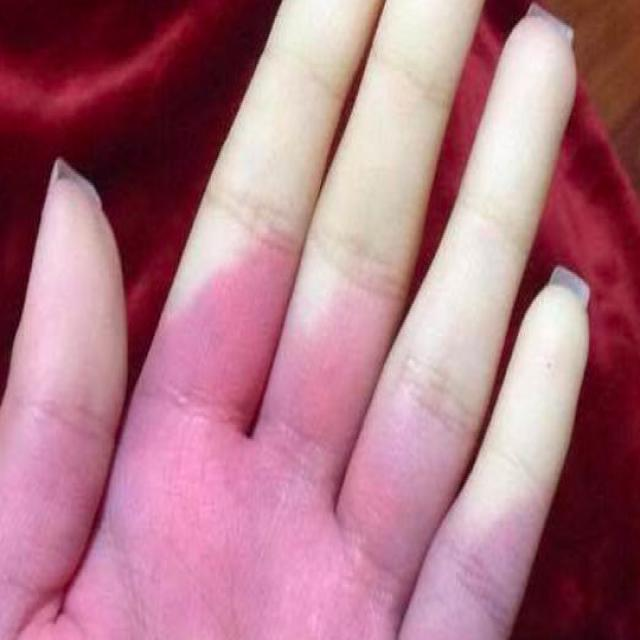raynauds: (2, 0, 635, 507)
